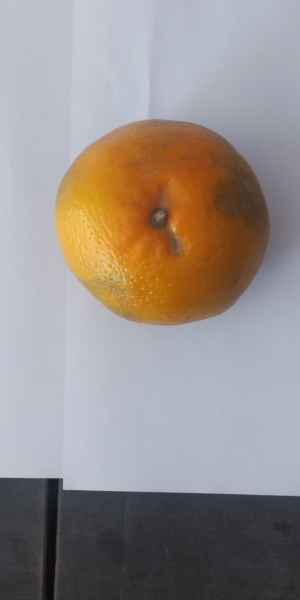BAD: (51, 114, 271, 331)
